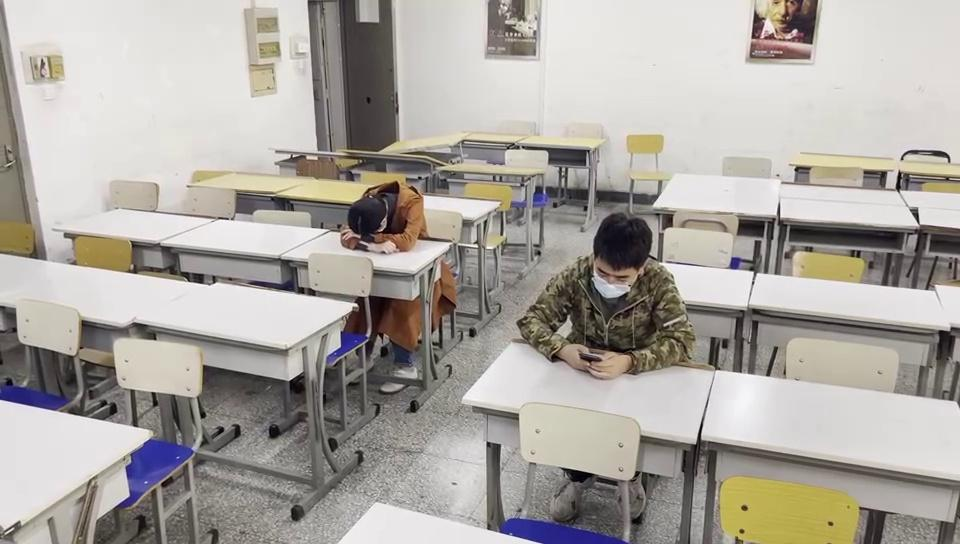phone: (517, 219, 689, 375)
sleep: (339, 181, 429, 250)
